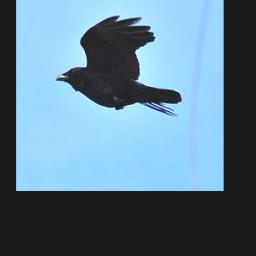Crow: (55, 15, 182, 119)
